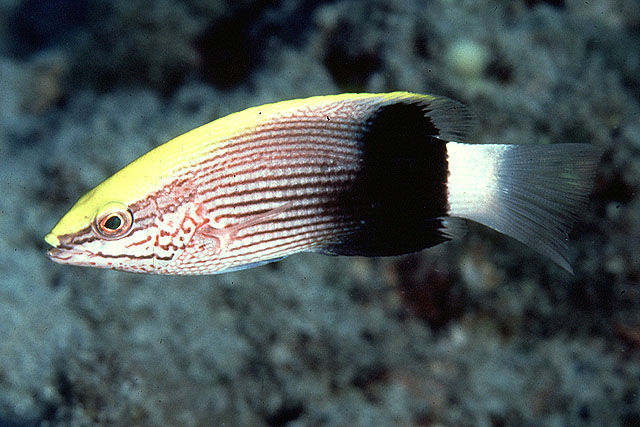fish: (41, 91, 603, 279)
